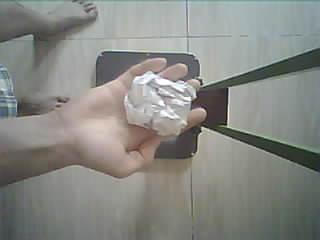paper: (124, 72, 196, 136)
